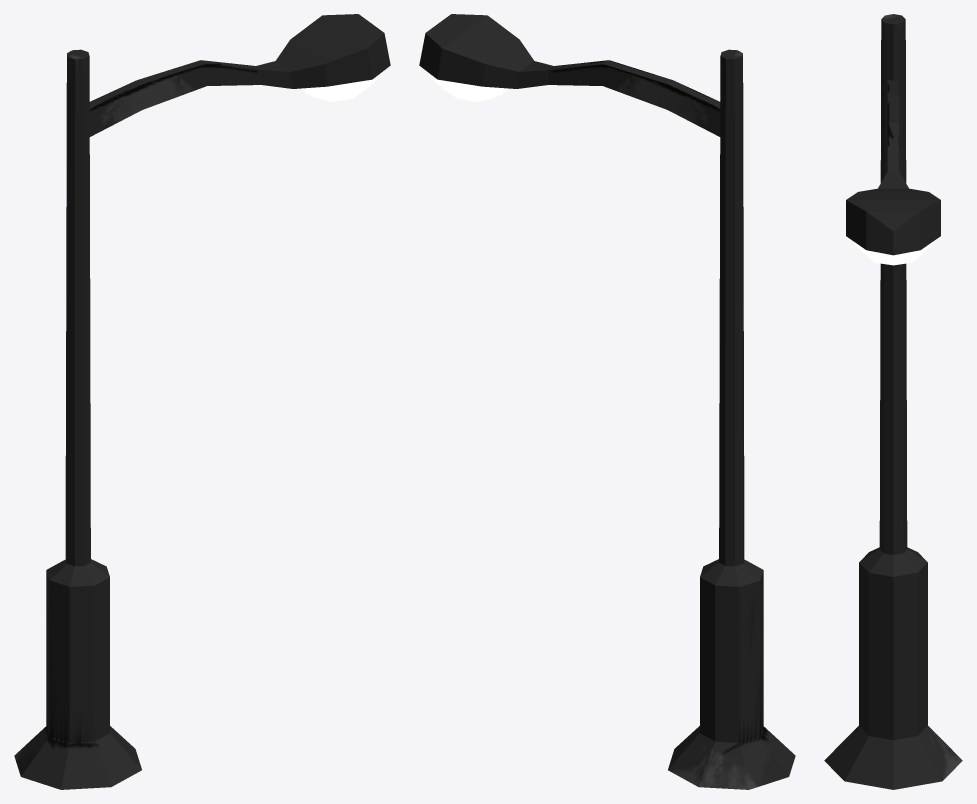
Rendered from streetlamp_3.glb.
3 renders of one model, left to right at view 1: azimuth 30°, elevation 25°; view 2: azimuth 150°, elevation 25°; view 3: azimuth 270°, elevation 25°, orthographic. The views are drawn at different scales.
Visible parts, largest first — view 1: Street Lamp 3, Light 3; view 2: Street Lamp 3, Light 3; view 3: Street Lamp 3, Light 3.
Boxes of the visible parts, <box> form: Street Lamp 3: <box>14,14,390,789</box>; Light 3: <box>302,75,377,101</box>; Street Lamp 3: <box>419,14,795,789</box>; Light 3: <box>432,75,507,101</box>; Street Lamp 3: <box>824,14,962,789</box>; Light 3: <box>854,242,932,265</box>.
Size of the model in its own units: 6.93 by 12.85 by 2.18.
2 materials, 1 textured.
